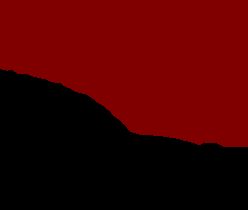Sky: (1, 1, 247, 209)
